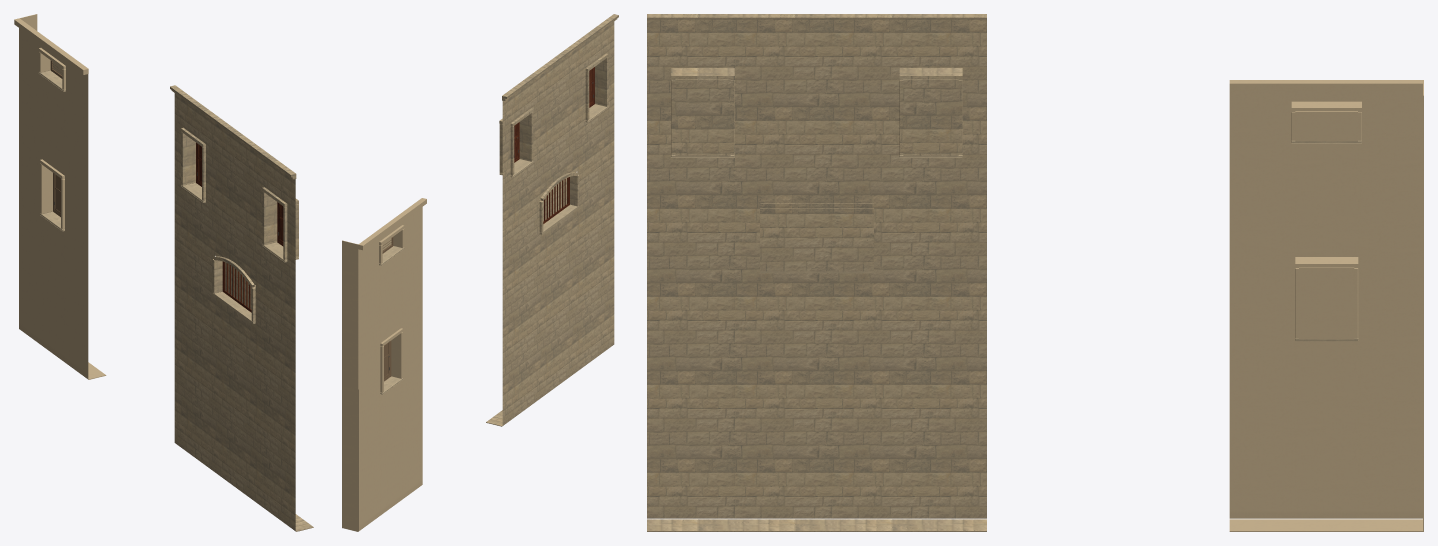
The model's file is fountain-receivers-caravan-court.glb.
3 renders of one model, left to right at view 1: azimuth 30°, elevation 25°; view 2: azimuth 150°, elevation 25°; view 3: azimuth 270°, elevation 25°, orthographic. The views are drawn at different scales.
Parts seen in each view (by area): view 1: bz06_dressed_sandstone.001-cast, bz06_sand_plaster.001-cast, bz06_monolithic_stone_trim.001-cast, ph_bz04_dark_wood.001-cast, ph_bz04_dark_wood.001-receive, bz04_craft_warm_timber.001-cast; view 2: bz06_dressed_sandstone.001-cast, bz06_sand_plaster.001-cast, bz06_monolithic_stone_trim.001-cast, ph_bz04_dark_wood.001-cast, ph_bz04_dark_wood.001-receive, bz04_craft_warm_timber.001-cast; view 3: bz06_dressed_sandstone.001-cast, bz06_sand_plaster.001-cast, bz06_monolithic_stone_trim.001-cast.
Part boxes in pixels (x1,y1,x2,y2): bz06_dressed_sandstone.001-cast: [170, 85, 313, 531]; bz06_sand_plaster.001-cast: [14, 14, 106, 379]; bz06_monolithic_stone_trim.001-cast: [38, 70, 298, 323]; ph_bz04_dark_wood.001-cast: [196, 142, 283, 312]; ph_bz04_dark_wood.001-receive: [224, 262, 252, 308]; bz04_craft_warm_timber.001-cast: [50, 60, 62, 216]; bz06_dressed_sandstone.001-cast: [486, 14, 618, 426]; bz06_sand_plaster.001-cast: [342, 198, 426, 531]; bz06_monolithic_stone_trim.001-cast: [379, 104, 608, 394]; ph_bz04_dark_wood.001-cast: [514, 67, 594, 223]; ph_bz04_dark_wood.001-receive: [544, 177, 568, 220]; bz04_craft_warm_timber.001-cast: [382, 237, 393, 381]; bz06_dressed_sandstone.001-cast: [647, 14, 986, 531]; bz06_sand_plaster.001-cast: [1229, 80, 1423, 531]; bz06_monolithic_stone_trim.001-cast: [671, 140, 1361, 341].
Size of the model in its own units: 0.76 by 11.42 by 16.
Materials: 6 (6 with a texture image).
